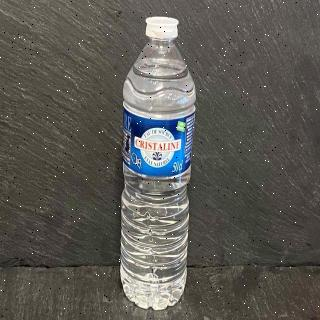Plastic-bottle: (119, 14, 201, 314)
